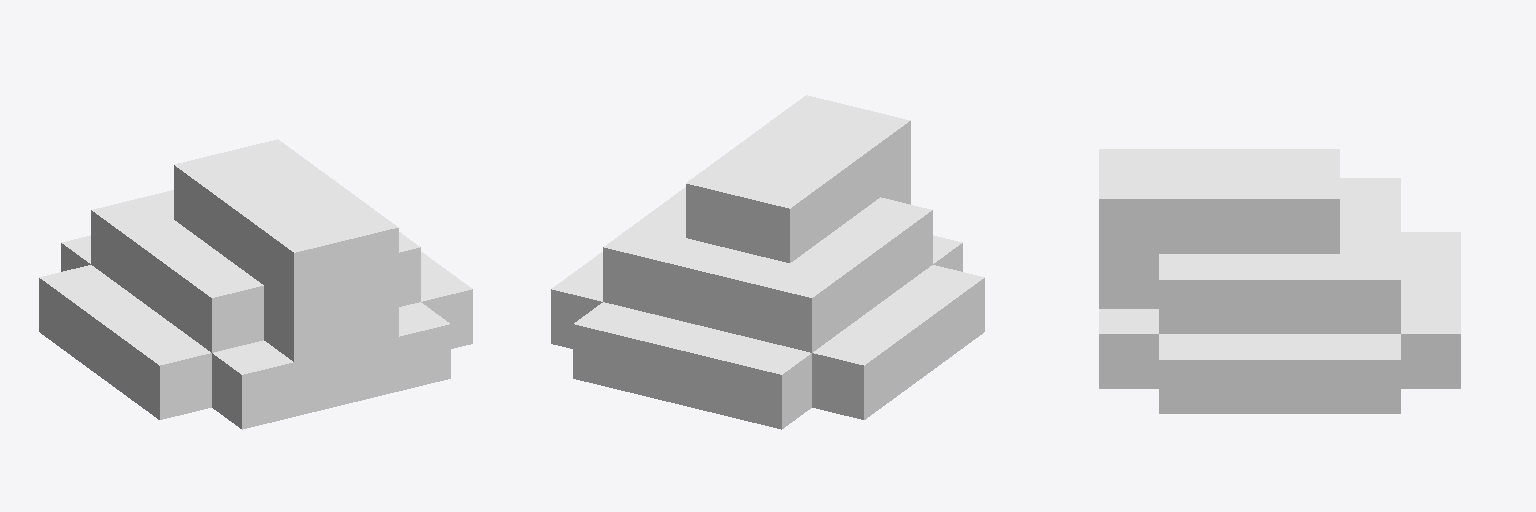
Rendered from char-257-helm_lgt_3c_du_color.obj.
3 renders of one model, left to right at view 1: azimuth 30°, elevation 25°; view 2: azimuth 150°, elevation 25°; view 3: azimuth 270°, elevation 25°, orthographic.
Visible parts, largest first — view 1: helm_lgt_3c_du_color; view 2: helm_lgt_3c_du_color; view 3: helm_lgt_3c_du_color.
Part boxes in pixels (x1,y1,x2,y2): helm_lgt_3c_du_color: (39, 139, 472, 429); helm_lgt_3c_du_color: (551, 95, 984, 429); helm_lgt_3c_du_color: (1099, 149, 1460, 413).
Bounding box in the file's own units: 0.6 × 0.3 × 0.6.